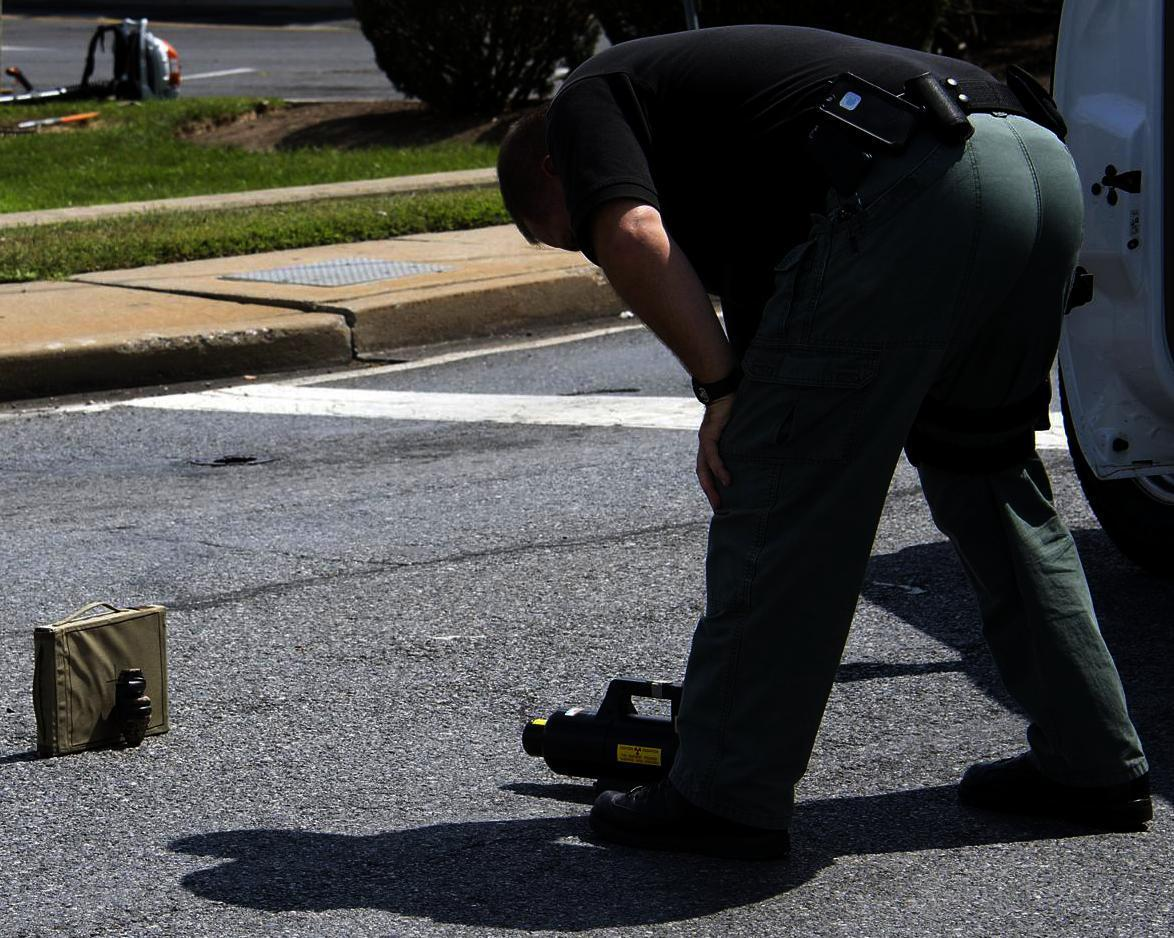Grenade: (112, 665, 154, 750)
